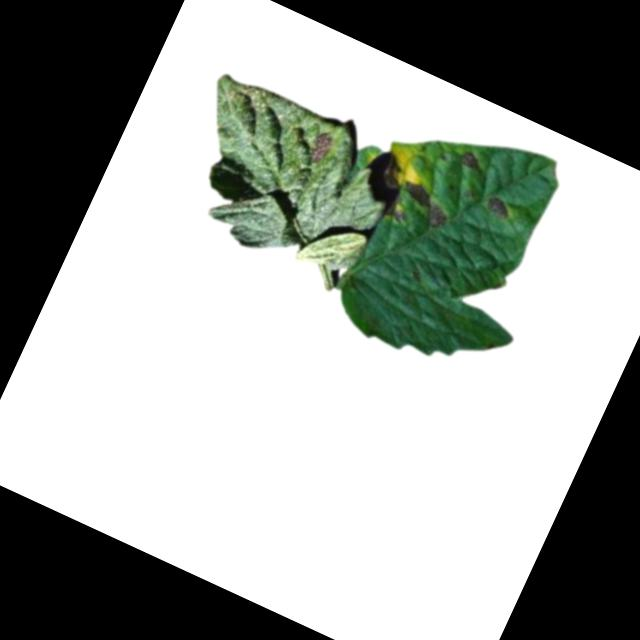Early_blight: (395, 177, 459, 230), (302, 125, 340, 170), (478, 188, 513, 222), (457, 147, 490, 175)
